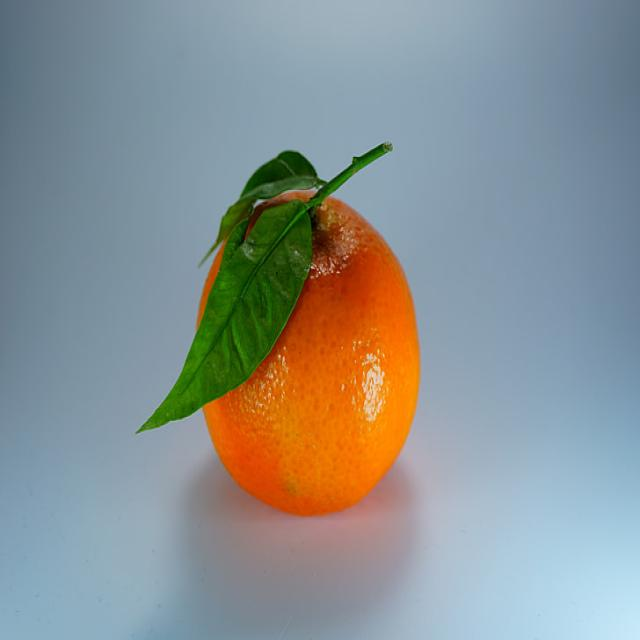orange: (164, 146, 454, 534)
